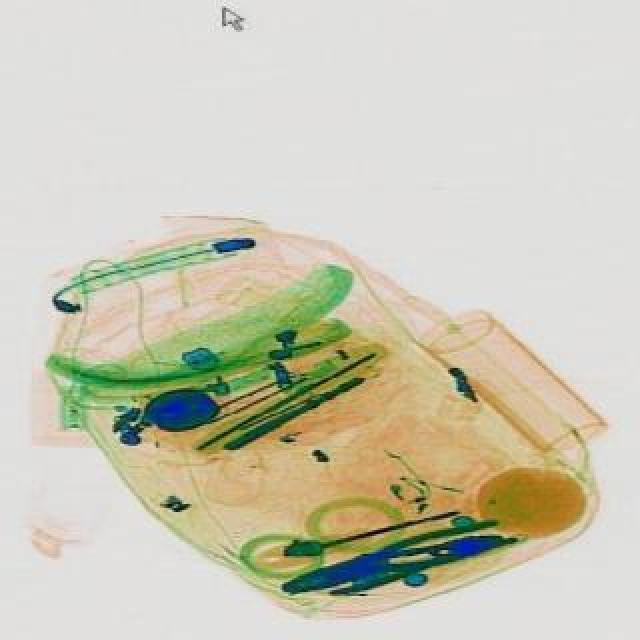wrench: (272, 514, 502, 608), (318, 520, 502, 600)
